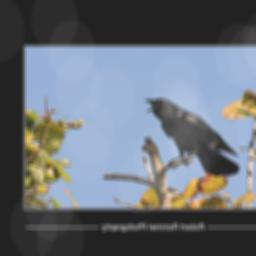Crow: (144, 97, 239, 176)
